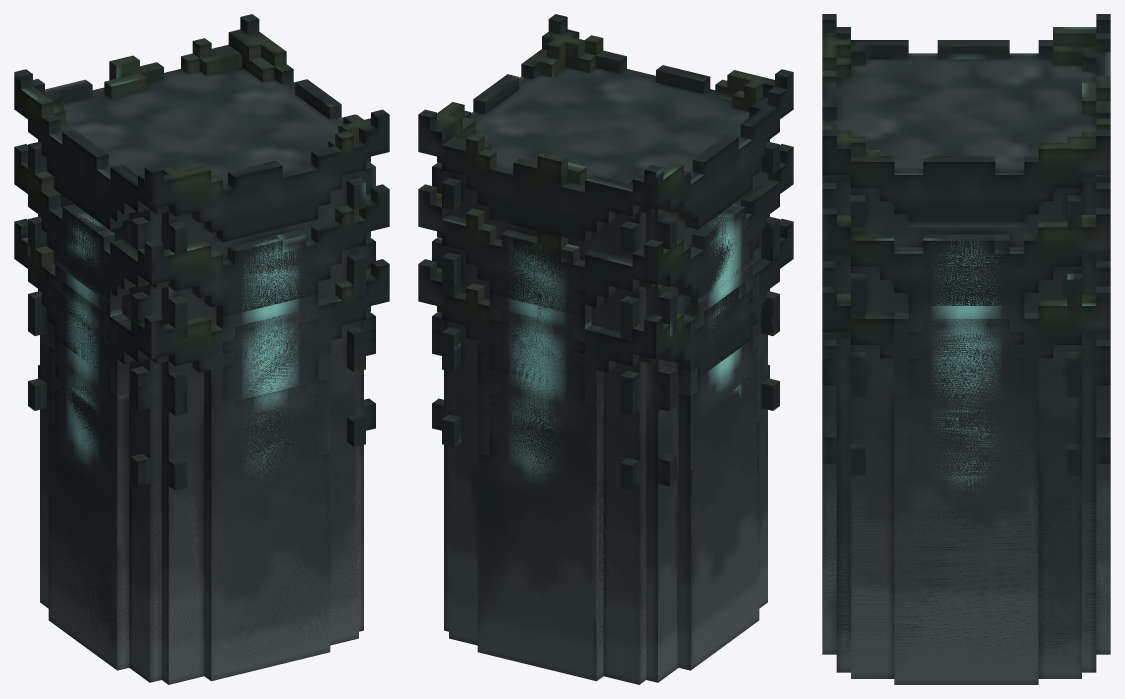
The model's file is small_islands.fbx.
3 views of the same model, side by side, from view 1: azimuth 30°, elevation 25°; view 2: azimuth 150°, elevation 25°; view 3: azimuth 270°, elevation 25° (orthographic). The views are drawn at different scales.
Parts seen in each view (by area): view 1: small_island.001, small_isl_extra2.001, small_isl_extra1.001; view 2: small_island.001, small_isl_extra2.001, small_isl_extra1.001; view 3: small_isl_extra2.001, small_island.001, small_isl_extra1.001.
Boxes of the visible parts, x1,y1,x2,y2 form: small_island.001: (14,144,389,684); small_isl_extra2.001: (14,14,389,684); small_isl_extra1.001: (14,218,389,684); small_island.001: (418,144,793,684); small_isl_extra2.001: (418,14,793,684); small_isl_extra1.001: (418,218,793,683); small_isl_extra2.001: (822,14,1110,684); small_island.001: (822,208,1110,684); small_isl_extra1.001: (822,286,1110,684).
Size of the model in its own units: 200 by 420 by 200.
